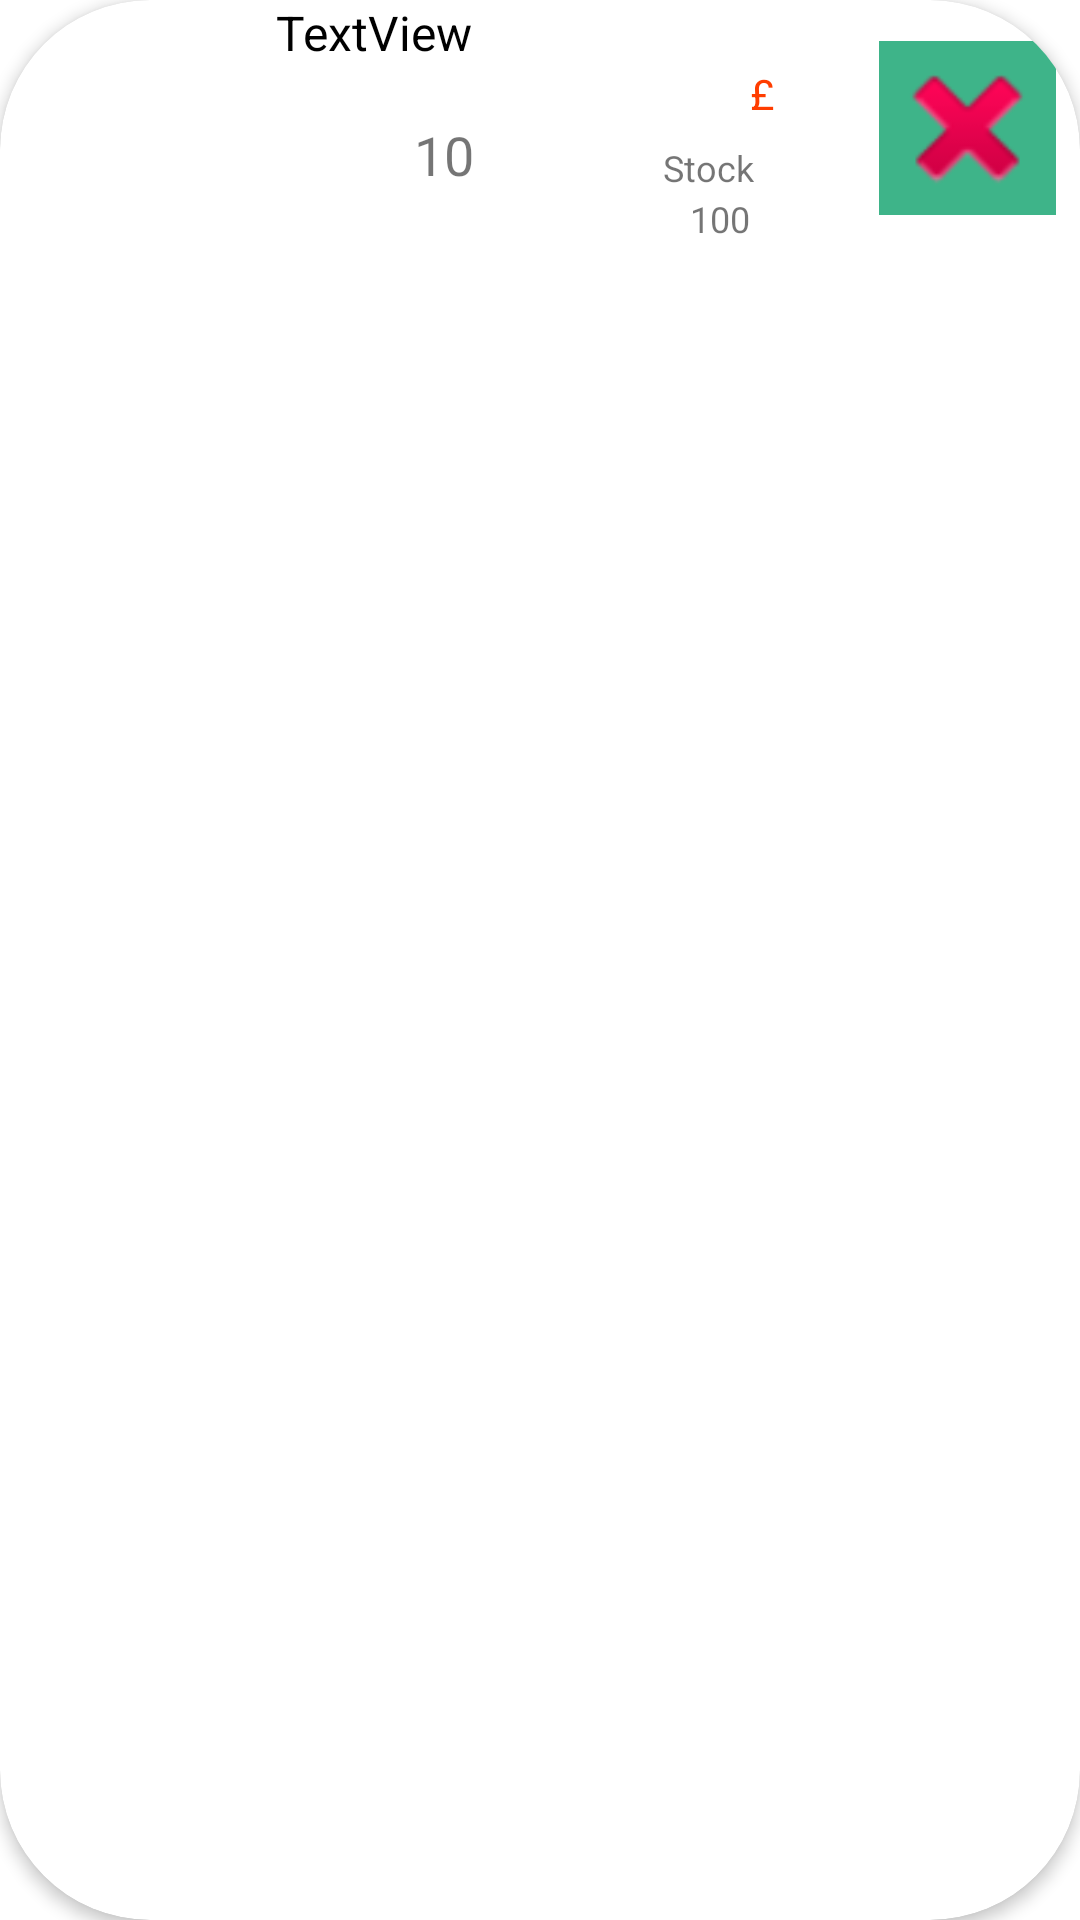

Screen size 1080x1920. Icon name, then its box in pixels as bbox=[x1, y1, x2, y2]:
delete: bbox=[879, 41, 1056, 215]
